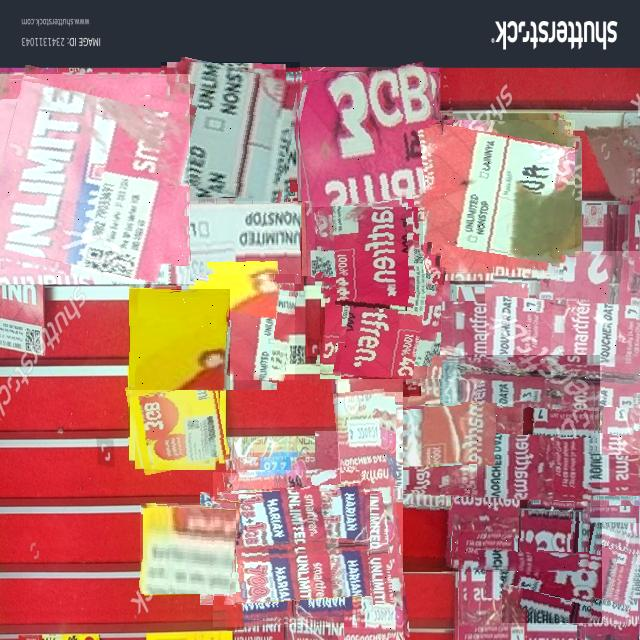im3: (129, 289, 230, 390), (128, 374, 226, 472), (140, 503, 236, 594)
smartfren: (383, 355, 600, 572), (0, 74, 190, 284), (485, 251, 640, 455), (213, 470, 370, 627), (423, 120, 575, 273), (293, 67, 441, 207), (161, 62, 300, 201), (338, 376, 403, 640), (319, 257, 442, 379), (315, 180, 427, 292), (189, 274, 295, 380), (372, 379, 477, 485), (170, 204, 301, 284), (502, 523, 602, 623), (560, 523, 640, 624)
